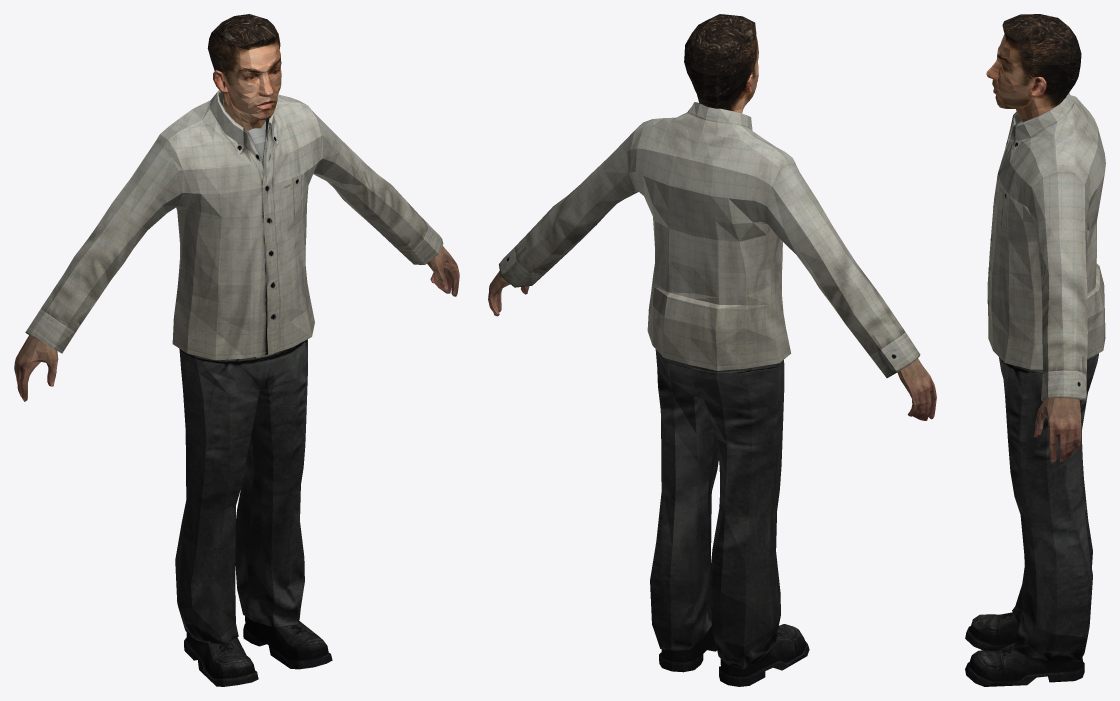
Rendered from stanley.obj.
The picture shows the model from 3 angles, left to right: view 1: azimuth 30°, elevation 25°; view 2: azimuth 150°, elevation 25°; view 3: azimuth 270°, elevation 25°; orthographic projection.
Visible parts, largest first — view 1: stanley_ref.stanley_ref.smd.mesh_0, stanley_ref.stanley_ref.smd.mesh_1; view 2: stanley_ref.stanley_ref.smd.mesh_0, stanley_ref.stanley_ref.smd.mesh_1; view 3: stanley_ref.stanley_ref.smd.mesh_0, stanley_ref.stanley_ref.smd.mesh_1.
Boxes of the visible parts, <box> form: stanley_ref.stanley_ref.smd.mesh_0: <box>14,90,459,686</box>; stanley_ref.stanley_ref.smd.mesh_1: <box>207,14,281,130</box>; stanley_ref.stanley_ref.smd.mesh_0: <box>488,102,936,686</box>; stanley_ref.stanley_ref.smd.mesh_1: <box>684,14,758,113</box>; stanley_ref.stanley_ref.smd.mesh_0: <box>965,93,1105,686</box>; stanley_ref.stanley_ref.smd.mesh_1: <box>986,14,1081,121</box>.
Size of the model in its own units: 52.19 by 72.34 by 14.43.
Materials: 2 (2 with a texture image).
